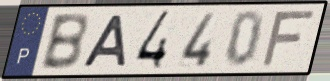0: (225, 9, 267, 69)
4: (133, 9, 173, 72), (178, 11, 215, 69)
A: (79, 14, 128, 69)
B: (38, 11, 90, 72)
F: (259, 8, 319, 70)
